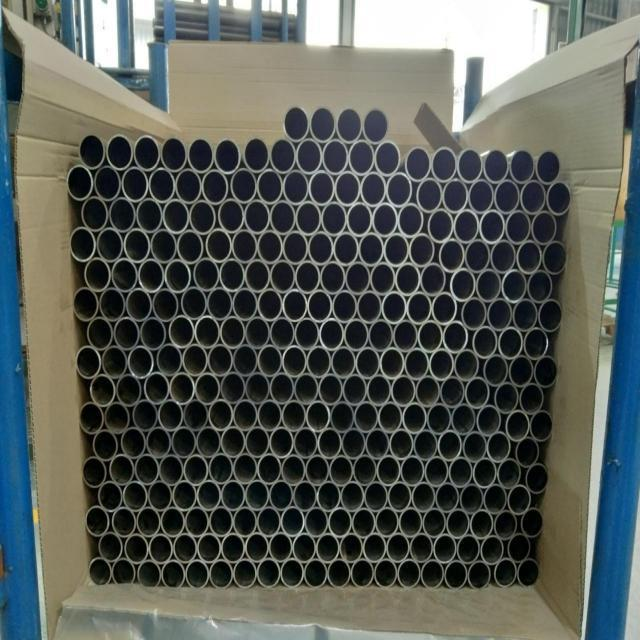pipe: (93, 165, 122, 202), (133, 134, 161, 172), (282, 105, 310, 142), (78, 133, 106, 170), (106, 134, 134, 171), (160, 136, 188, 173), (242, 136, 270, 173), (187, 136, 215, 173), (269, 137, 297, 174), (214, 137, 242, 174), (374, 140, 402, 177), (121, 166, 149, 203), (230, 167, 258, 204), (108, 196, 136, 233), (336, 106, 363, 144), (362, 107, 389, 145), (296, 137, 323, 175), (322, 138, 349, 176), (404, 146, 432, 182), (202, 168, 230, 204), (386, 172, 414, 208), (135, 198, 163, 234), (217, 198, 245, 234), (162, 199, 190, 235), (189, 199, 217, 235), (397, 203, 425, 239), (96, 227, 124, 263), (123, 228, 151, 264), (84, 257, 112, 293), (310, 106, 337, 143), (348, 139, 375, 176), (67, 164, 94, 201), (149, 167, 176, 204), (175, 168, 202, 205), (283, 169, 310, 206), (309, 169, 336, 206), (335, 170, 362, 207), (442, 177, 469, 214), (520, 179, 547, 216), (150, 227, 177, 264), (139, 316, 168, 350), (415, 177, 443, 212), (426, 208, 454, 243), (205, 228, 233, 263), (177, 229, 205, 264), (408, 233, 436, 268), (437, 238, 465, 273), (192, 258, 220, 293), (164, 258, 192, 293), (180, 286, 208, 321), (98, 287, 126, 322), (152, 287, 180, 322), (155, 343, 183, 378), (431, 147, 458, 183), (457, 148, 484, 184), (509, 148, 536, 184), (483, 148, 510, 184), (535, 149, 562, 185), (257, 168, 284, 204), (360, 171, 387, 207), (494, 178, 521, 214), (468, 178, 495, 214), (82, 196, 109, 232), (244, 199, 271, 235), (270, 200, 297, 236), (321, 201, 348, 237), (505, 210, 532, 246), (531, 210, 558, 246), (516, 240, 543, 276), (372, 202, 398, 239), (420, 263, 448, 297), (449, 268, 477, 302), (167, 315, 195, 349), (127, 345, 155, 379), (115, 373, 143, 407), (453, 209, 480, 244), (69, 227, 96, 262), (232, 228, 259, 263), (464, 238, 491, 273), (490, 239, 517, 274), (111, 258, 138, 293), (138, 258, 165, 293), (244, 258, 271, 293), (476, 268, 503, 303), (207, 287, 234, 322), (126, 288, 153, 323), (194, 315, 221, 350), (87, 316, 114, 351), (113, 316, 140, 351), (101, 345, 128, 380), (546, 180, 572, 216), (296, 201, 322, 237), (347, 202, 373, 238), (479, 209, 505, 245), (358, 232, 384, 268), (431, 292, 459, 325), (460, 297, 488, 330), (442, 320, 469, 354), (472, 325, 499, 359), (194, 372, 221, 406), (257, 229, 283, 264), (282, 230, 308, 265), (308, 231, 334, 266), (333, 232, 359, 267), (384, 232, 410, 267), (542, 240, 568, 275), (219, 258, 245, 293), (270, 259, 296, 294), (295, 260, 321, 295), (345, 261, 371, 296), (370, 262, 396, 297), (395, 262, 421, 297), (502, 269, 528, 304), (527, 269, 553, 304), (73, 287, 99, 322), (232, 287, 258, 322), (257, 287, 283, 322), (282, 288, 308, 323), (307, 289, 333, 324), (332, 289, 358, 324), (487, 297, 513, 332), (512, 298, 538, 333), (497, 326, 523, 361), (182, 343, 208, 378), (76, 345, 102, 380), (90, 373, 116, 408), (453, 349, 480, 382), (482, 354, 509, 387), (143, 372, 170, 405), (493, 381, 520, 414), (132, 399, 159, 432), (104, 401, 131, 434), (476, 405, 503, 438), (357, 290, 383, 324), (381, 291, 407, 325), (406, 292, 432, 326), (294, 317, 320, 351), (368, 319, 394, 353), (392, 319, 418, 353), (417, 320, 443, 354), (208, 344, 234, 378), (232, 344, 258, 378), (257, 344, 283, 378), (508, 354, 534, 388), (169, 372, 195, 406), (146, 426, 172, 460), (321, 261, 346, 296), (523, 326, 548, 361), (109, 454, 136, 486), (245, 316, 271, 349), (269, 317, 295, 350), (281, 345, 307, 378), (306, 346, 332, 379), (428, 349, 454, 382), (220, 372, 246, 405), (244, 372, 270, 405), (269, 372, 295, 405), (465, 376, 491, 409), (519, 382, 545, 415), (183, 399, 209, 432), (158, 399, 184, 432), (426, 402, 452, 435), (451, 403, 477, 436), (120, 427, 146, 460), (293, 427, 319, 460), (93, 429, 119, 462), (147, 479, 173, 512), (538, 298, 563, 332), (221, 316, 246, 350), (319, 318, 344, 352), (344, 318, 369, 352), (534, 355, 559, 389), (172, 426, 197, 460), (196, 426, 221, 460), (486, 432, 512, 464), (514, 436, 540, 468), (158, 454, 184, 486), (82, 456, 108, 488), (122, 480, 148, 512), (331, 347, 356, 380), (356, 347, 381, 380), (380, 347, 405, 380), (405, 348, 430, 381), (294, 372, 319, 405), (318, 373, 343, 406), (342, 374, 367, 407), (367, 374, 392, 407), (391, 374, 416, 407), (416, 375, 441, 408), (441, 376, 466, 409), (208, 398, 233, 431), (233, 399, 258, 432), (257, 399, 282, 432), (282, 400, 307, 433), (306, 400, 331, 433), (330, 400, 355, 433), (354, 400, 379, 433), (378, 401, 403, 434), (79, 402, 104, 435), (402, 402, 427, 435), (505, 409, 530, 442), (221, 426, 246, 459), (245, 426, 270, 459), (269, 427, 294, 460), (318, 427, 343, 460), (342, 428, 367, 461), (365, 428, 390, 461), (389, 428, 414, 461), (413, 429, 438, 462), (438, 430, 463, 463), (462, 430, 487, 463), (135, 453, 160, 486), (281, 453, 306, 486), (305, 453, 330, 486), (329, 454, 354, 487), (353, 454, 378, 487), (377, 454, 402, 487), (400, 455, 425, 488), (424, 455, 449, 488), (245, 479, 270, 512), (161, 506, 186, 539), (184, 506, 209, 539), (209, 506, 234, 539), (496, 458, 522, 489), (97, 480, 123, 511), (111, 507, 137, 538), (493, 510, 519, 541), (123, 533, 149, 564), (209, 453, 234, 485), (233, 453, 258, 485), (257, 453, 282, 485), (184, 454, 209, 486), (448, 456, 473, 488), (473, 457, 498, 489), (172, 480, 197, 512), (197, 480, 222, 512), (221, 480, 246, 512), (269, 480, 294, 512), (293, 480, 318, 512), (317, 480, 342, 512), (412, 481, 437, 513), (435, 482, 460, 514), (459, 483, 484, 515), (483, 483, 508, 515), (257, 506, 282, 538), (136, 506, 161, 538), (233, 506, 258, 538), (304, 506, 329, 538), (98, 531, 123, 563), (269, 532, 294, 564), (173, 532, 198, 564), (221, 532, 246, 564), (409, 532, 434, 564), (149, 533, 174, 565), (530, 409, 554, 442), (341, 480, 365, 513), (364, 480, 388, 513), (197, 532, 221, 565), (524, 463, 550, 493), (506, 485, 532, 515), (85, 506, 110, 537), (422, 508, 447, 539), (520, 508, 545, 539), (446, 509, 471, 540), (245, 532, 270, 563), (467, 559, 492, 590), (388, 481, 412, 513), (281, 506, 305, 538), (328, 506, 352, 538), (399, 506, 423, 538), (292, 532, 316, 564), (363, 532, 387, 564), (316, 532, 340, 564), (340, 532, 364, 564), (386, 532, 410, 564), (433, 533, 457, 565), (507, 534, 532, 564), (493, 558, 518, 588), (352, 507, 376, 538), (375, 507, 399, 538), (470, 509, 494, 540), (257, 557, 281, 588), (351, 557, 375, 588), (304, 557, 328, 588), (327, 557, 351, 588), (233, 558, 257, 589), (280, 558, 304, 589), (374, 558, 398, 589), (397, 558, 421, 589), (209, 558, 233, 589), (162, 559, 186, 590), (186, 559, 210, 590), (480, 536, 505, 565), (112, 557, 137, 586), (137, 559, 162, 588), (88, 557, 112, 587), (457, 534, 480, 565), (517, 557, 540, 588), (421, 558, 444, 589), (445, 559, 468, 590)
